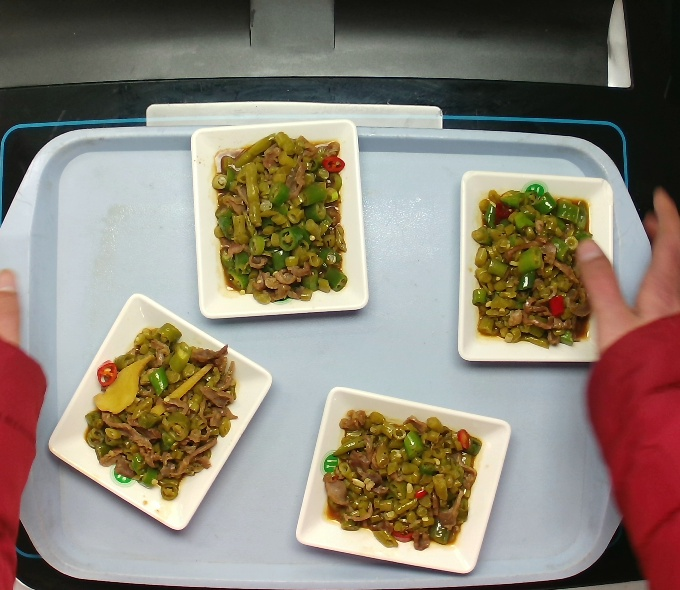wcq-SuanDouJiaoChaoJiZhen: (78, 323, 243, 498), (202, 129, 361, 309), (316, 396, 486, 548), (472, 184, 604, 349)
